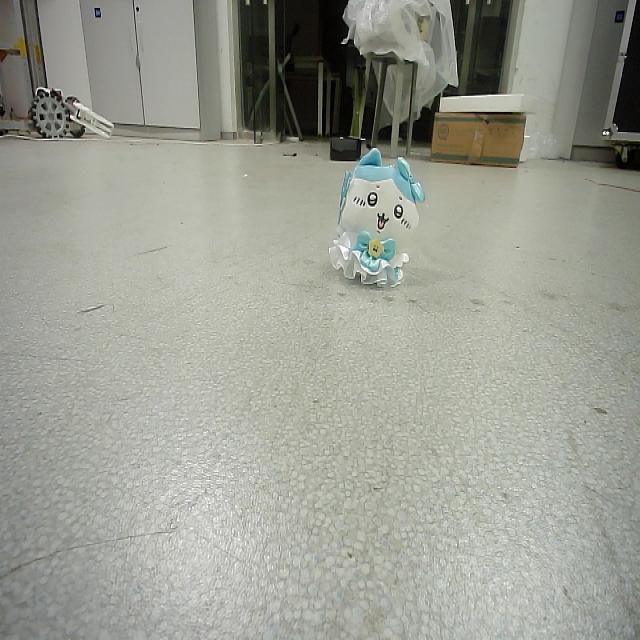xiaoba: (330, 145, 423, 289)
